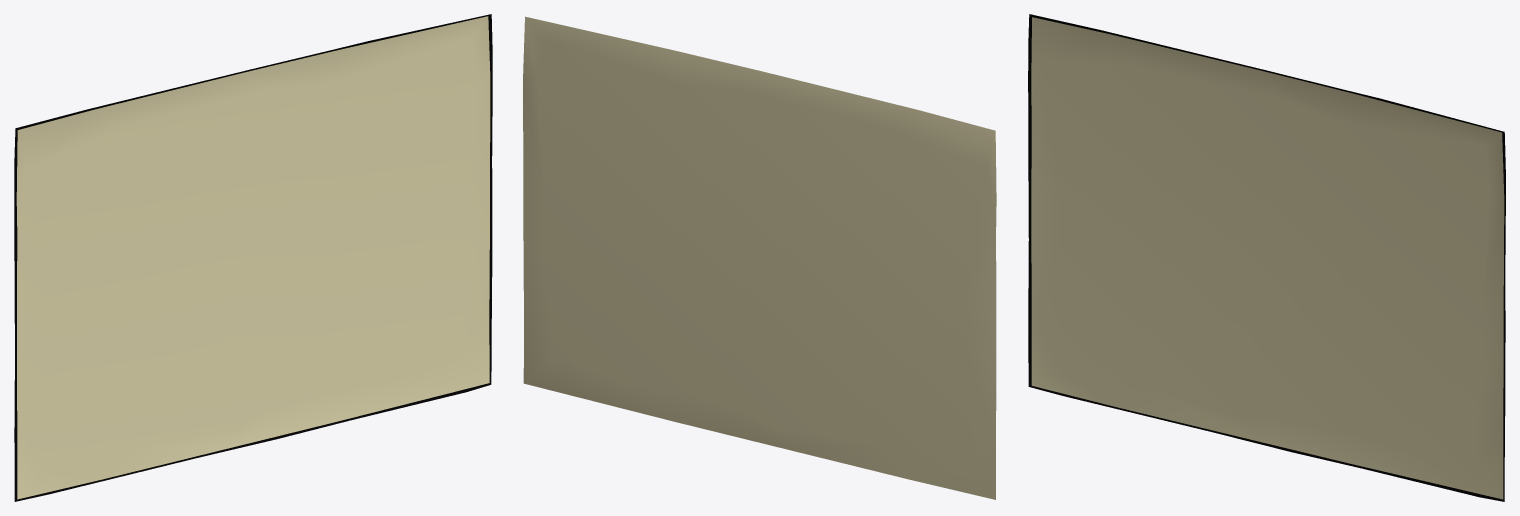
File: ui_inset_sm_4x3.glb
The picture shows the model from 3 angles, left to right: view 1: azimuth 30°, elevation 25°; view 2: azimuth 150°, elevation 25°; view 3: azimuth 330°, elevation 25°; orthographic projection.
Parts seen in each view (by area): view 1: Cube; view 2: Cube; view 3: Cube.
Boxes of the visible parts, bbox=[...] form: Cube: bbox=[14, 14, 492, 501]; Cube: bbox=[523, 16, 996, 499]; Cube: bbox=[1028, 14, 1505, 501].
Size of the model in its own units: 2 by 1.5 by 0.00262.
